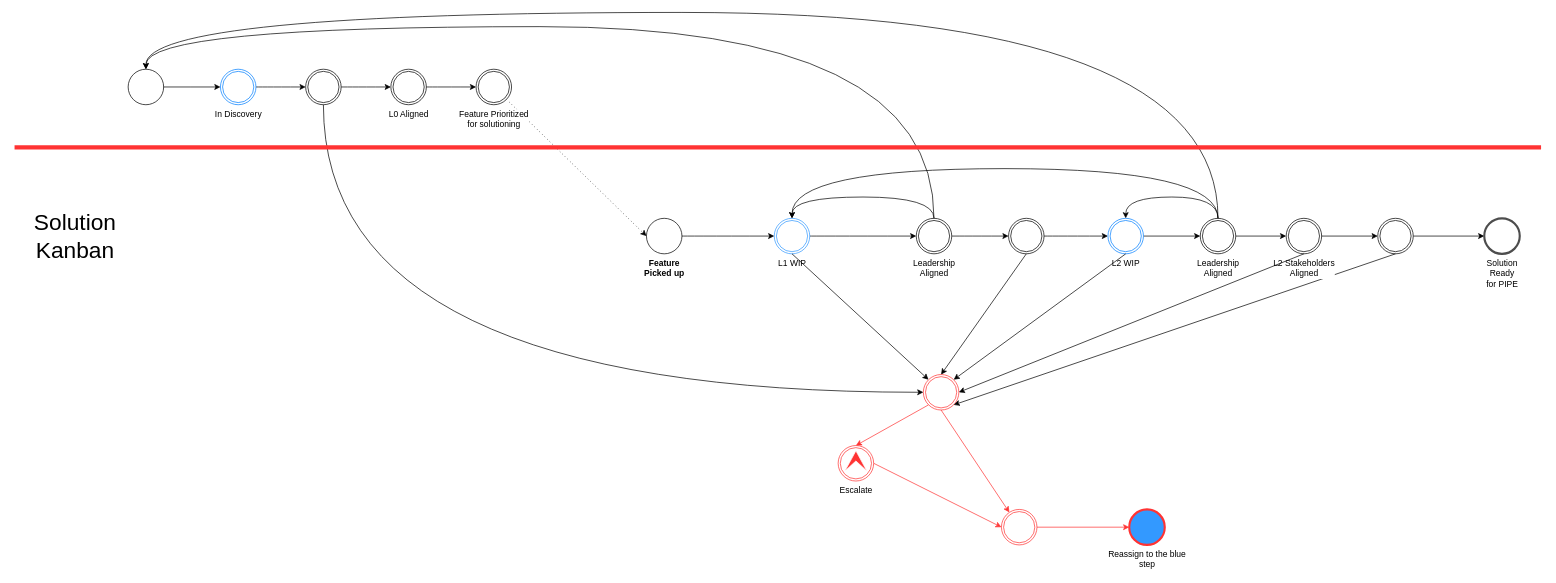
This 1556x583 diagram has some shape labels left out. The shapes that lost their labels are listed below. From the top down, each one's centre as x and y in pixels, then its label:
pixel 145 87: Identified Feature
pixel 323 87: Leadership Review
pixel 1026 236: L1 Stakeholders Aligned
pixel 1395 236: BRP (Final Sign-off from all L1, L2 stakeholders)
pixel 941 392: Blocked
pixel 1019 527: Resolve
